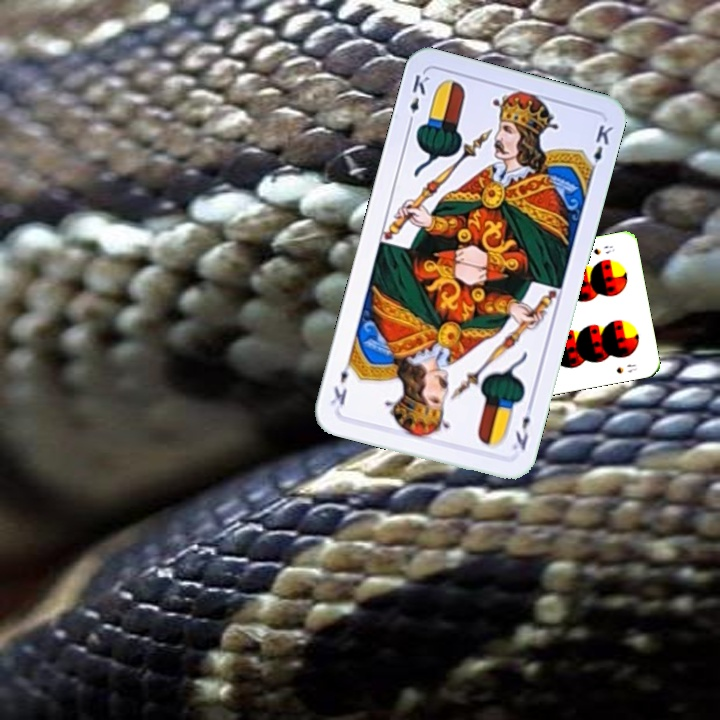EK: (402, 70, 432, 129), (508, 399, 536, 453)
S8: (589, 241, 617, 257)
